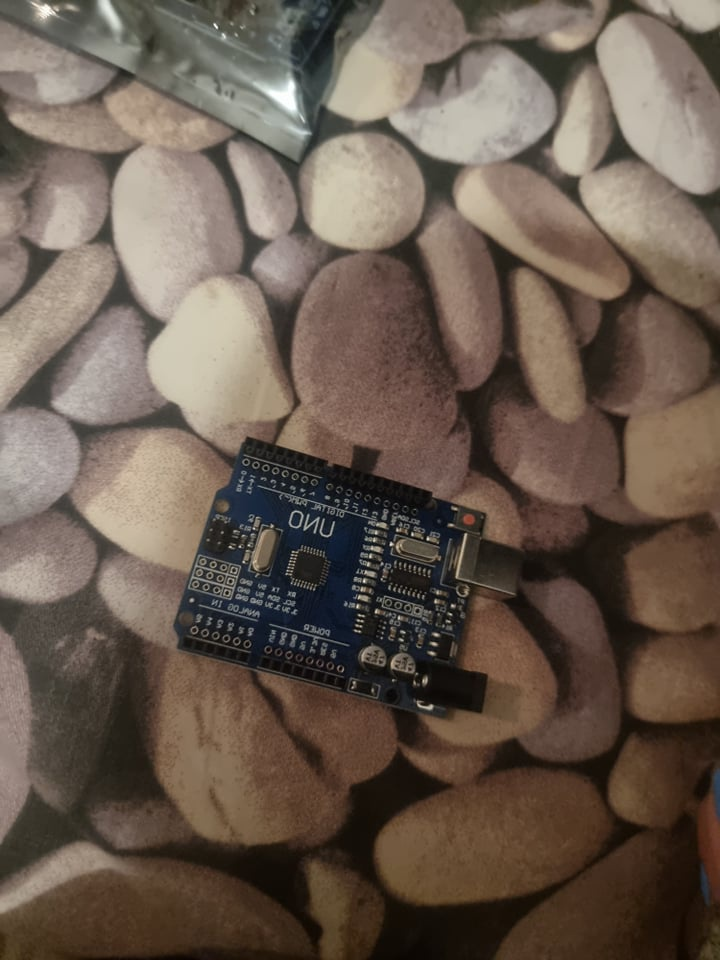UNO R3: (174, 434, 526, 722)
